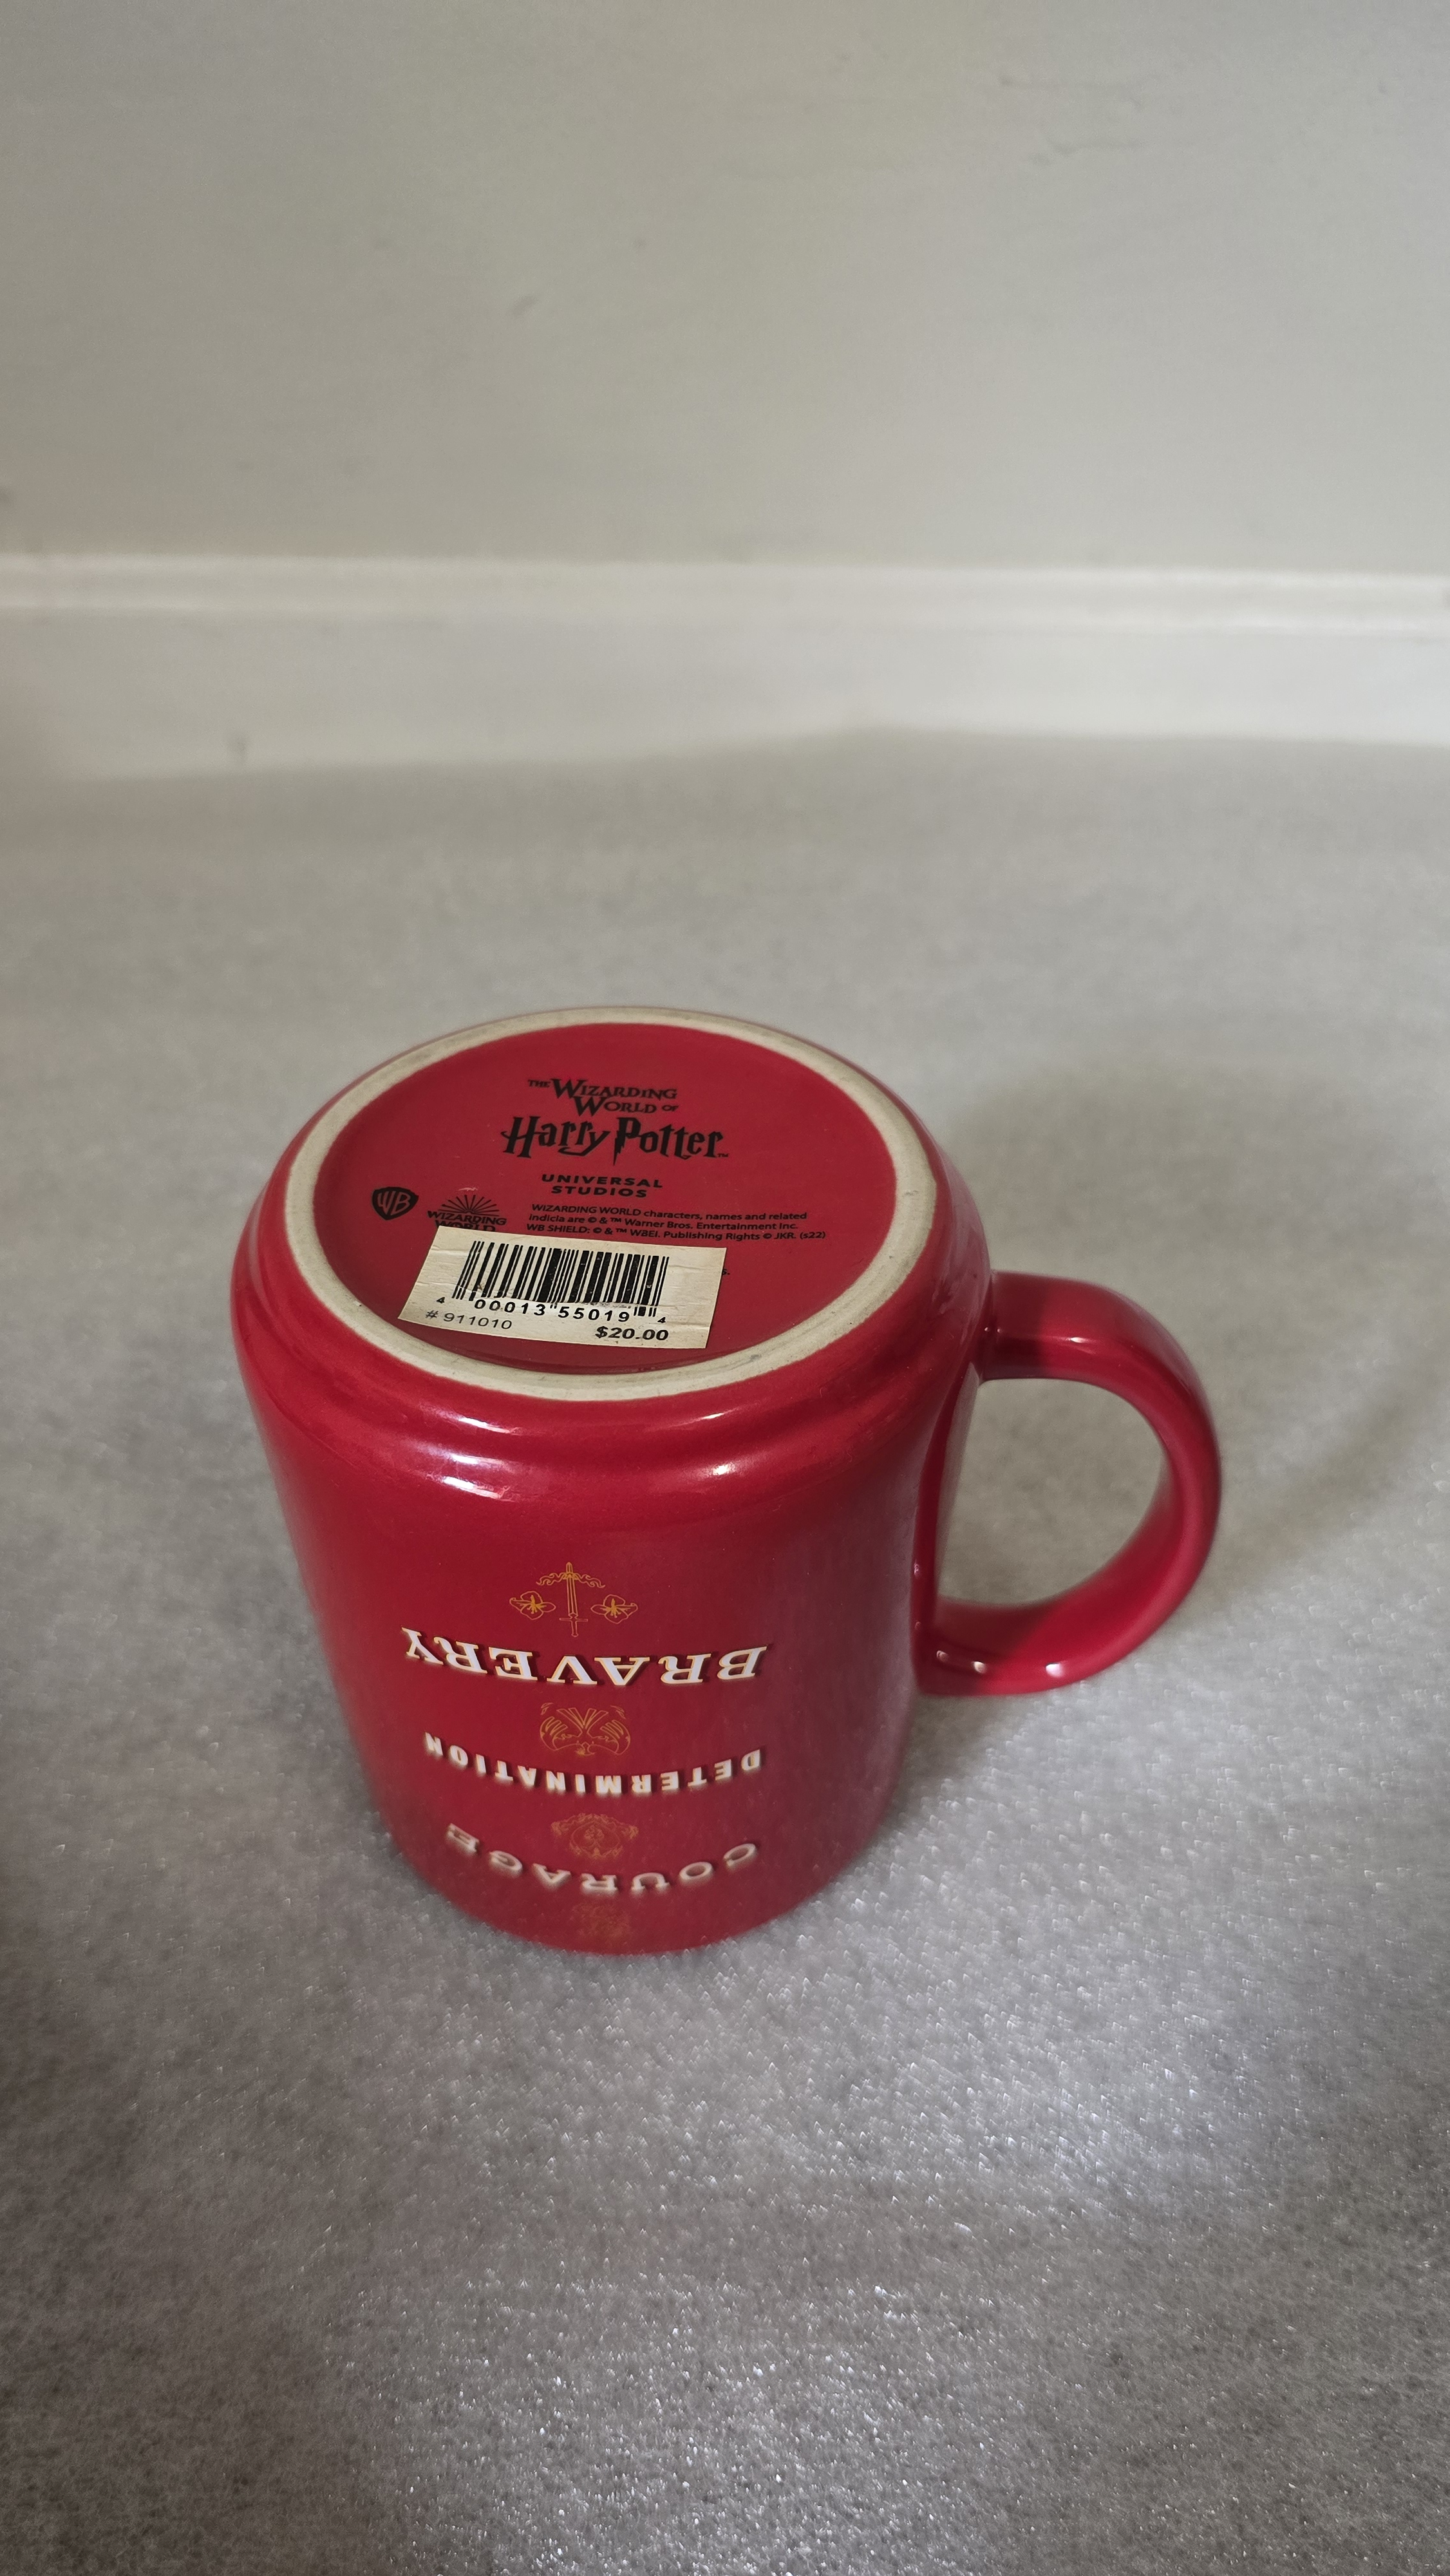mug: (219, 994, 1241, 1951)
